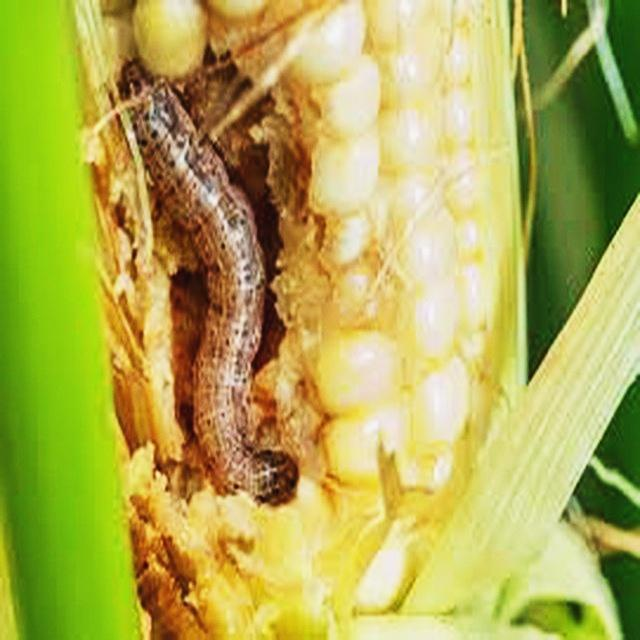gusano_cogollero: (140, 84, 306, 513)
